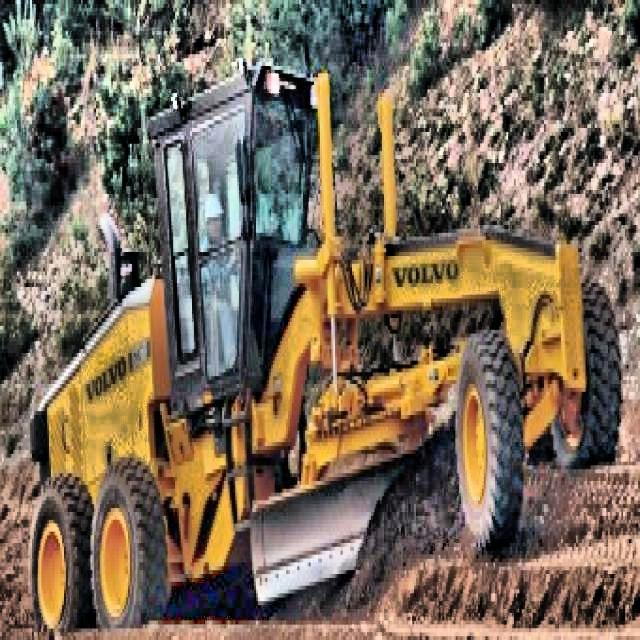bull_dozer/loader/grader: (25, 49, 625, 640)
person: (192, 188, 244, 357)
